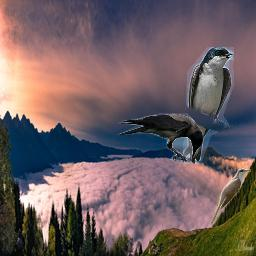Crow: (118, 113, 203, 162)
Cuckoo: (209, 168, 251, 226)
Swallow: (183, 47, 234, 164)
